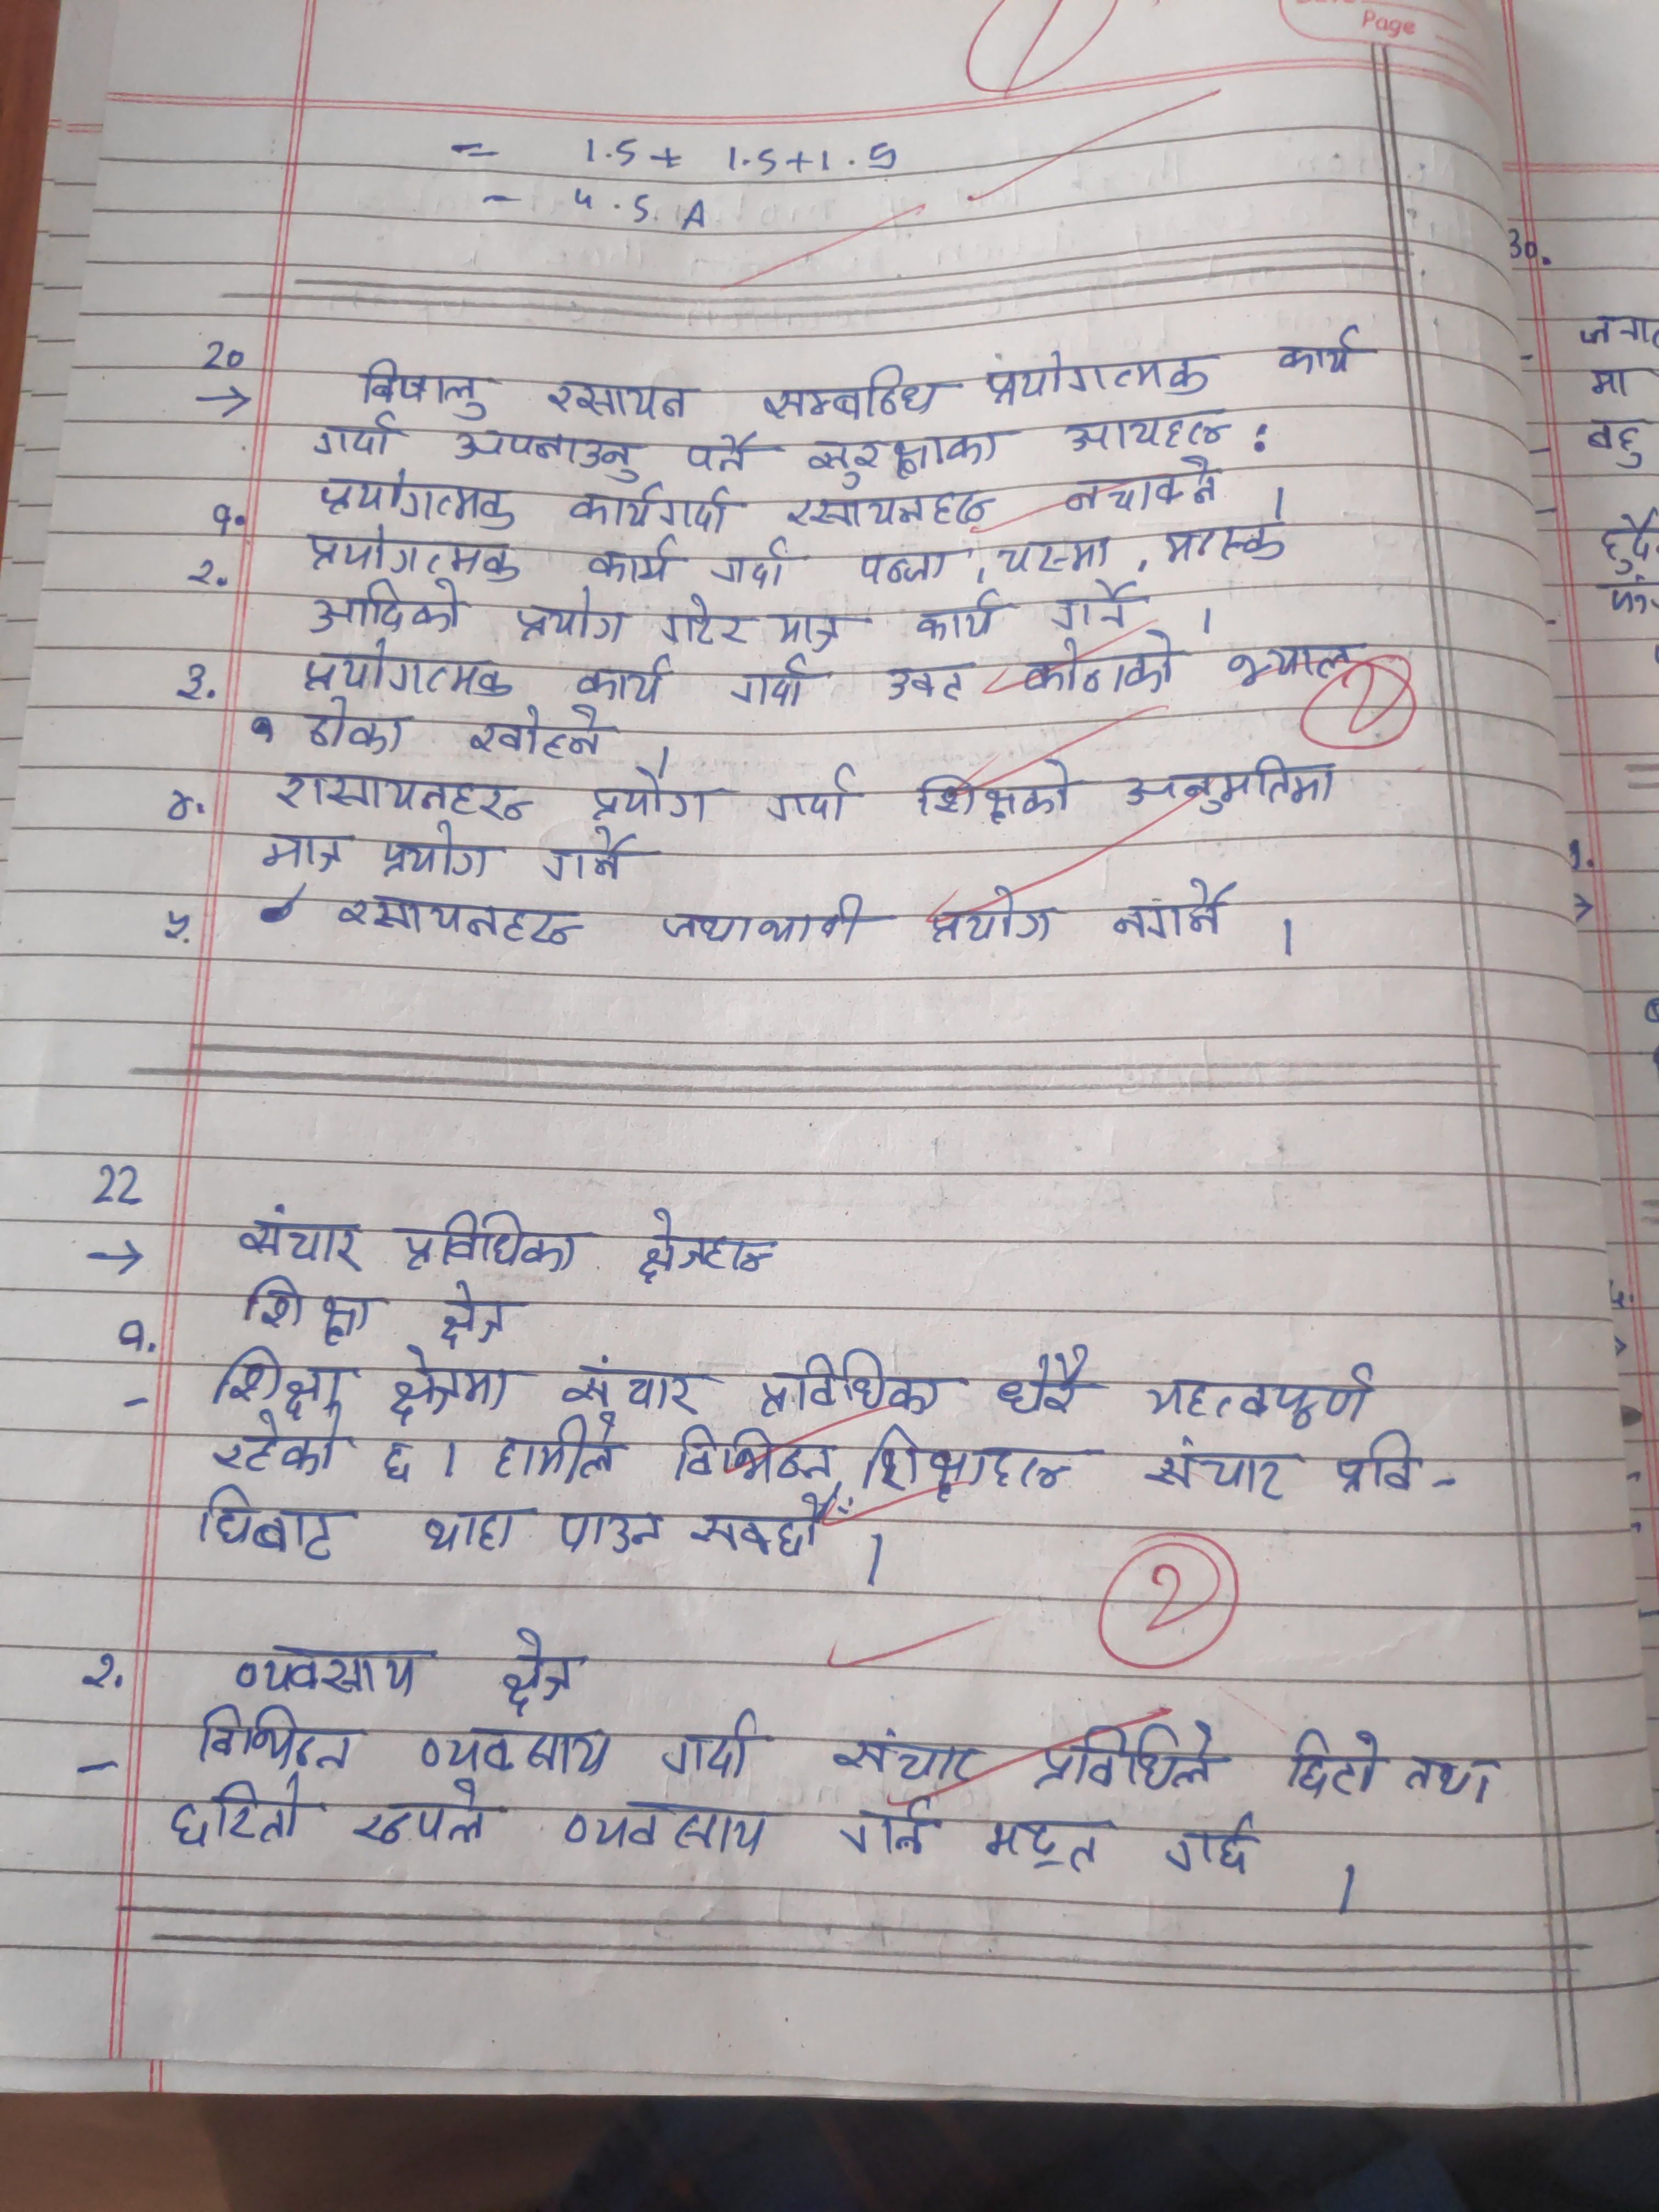text: (861, 1421, 1094, 1498), (265, 761, 535, 822), (1143, 1360, 1384, 1428), (335, 888, 587, 953), (756, 1346, 955, 1423), (295, 639, 519, 705), (307, 467, 525, 535), (1124, 756, 1338, 820), (558, 1803, 782, 1864), (1040, 1723, 1218, 1799), (193, 1486, 352, 1571), (411, 1714, 620, 1778), (983, 347, 1218, 402), (397, 1204, 584, 1273), (451, 421, 652, 486), (307, 524, 523, 583), (676, 1487, 842, 1561), (659, 892, 868, 949), (192, 1702, 354, 1775), (232, 1644, 439, 1700), (676, 1414, 836, 1486), (633, 1207, 777, 1285), (387, 1343, 518, 1428), (915, 758, 1079, 826), (1023, 632, 1182, 702), (807, 430, 1009, 484), (488, 1409, 624, 1489), (345, 1775, 491, 1848), (169, 1777, 307, 1853), (758, 366, 946, 421), (307, 577, 469, 641), (232, 1273, 380, 1343), (1108, 873, 1243, 948), (824, 1724, 988, 1785), (1145, 1433, 1291, 1501), (211, 1341, 352, 1409), (983, 1813, 1114, 1885), (558, 1355, 706, 1418), (1065, 456, 1223, 514), (582, 763, 716, 831), (211, 1411, 343, 1479), (232, 1204, 364, 1270), (777, 495, 995, 535), (563, 488, 739, 536), (1161, 503, 1293, 568), (356, 355, 491, 418), (997, 1341, 1094, 1428), (467, 702, 613, 759), (925, 881, 1060, 944), (1274, 1724, 1389, 1797), (493, 1629, 586, 1717), (373, 820, 493, 885), (662, 1710, 770, 1782), (1216, 643, 1363, 693), (1063, 411, 1232, 455), (544, 376, 702, 421), (430, 1277, 526, 1352), (1324, 1428, 1427, 1498), (1159, 1811, 1265, 1878), (300, 698, 411, 759), (422, 1498, 528, 1561), (509, 597, 631, 650), (763, 761, 864, 824), (537, 829, 640, 890), (1403, 1747, 1500, 1810), (1274, 320, 1373, 381), (908, 587, 1004, 650), (558, 1501, 664, 1557), (842, 1797, 934, 1860), (573, 650, 674, 705), (1044, 577, 1138, 636), (657, 592, 753, 650), (587, 531, 681, 589), (728, 657, 816, 716), (997, 538, 1119, 580), (310, 415, 408, 465), (708, 538, 795, 590), (878, 660, 974, 707), (854, 545, 960, 585), (774, 603, 854, 651), (256, 829, 345, 873), (685, 428, 760, 477), (378, 1444, 420, 1489)
